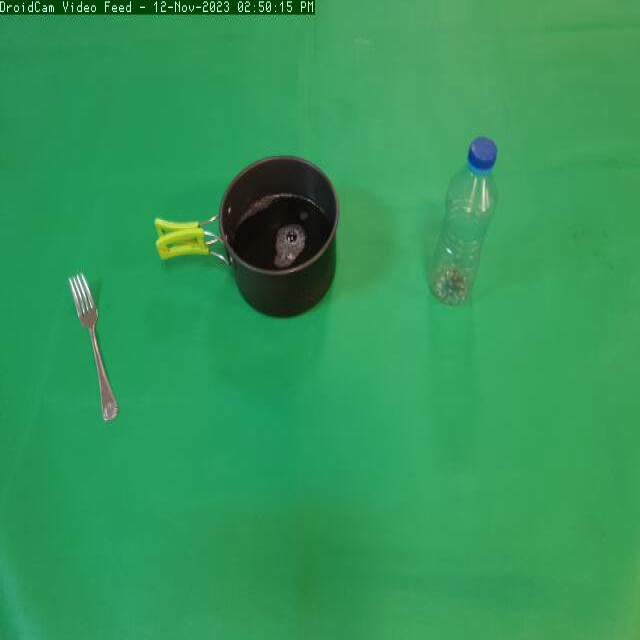bottle: (423, 124, 502, 319)
fork: (61, 259, 129, 433)
fullpot: (149, 154, 343, 326)
